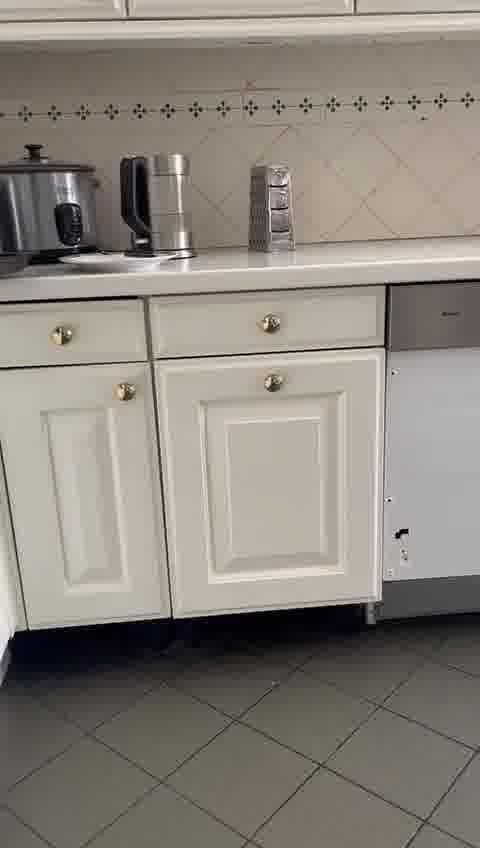cabinet_door: (169, 347, 385, 612), (8, 357, 152, 631), (155, 289, 381, 360), (0, 300, 148, 364)
handle: (249, 310, 289, 339), (46, 321, 80, 353), (259, 371, 293, 399), (108, 378, 140, 405)
